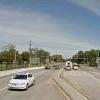Car: (5, 68, 37, 93)
